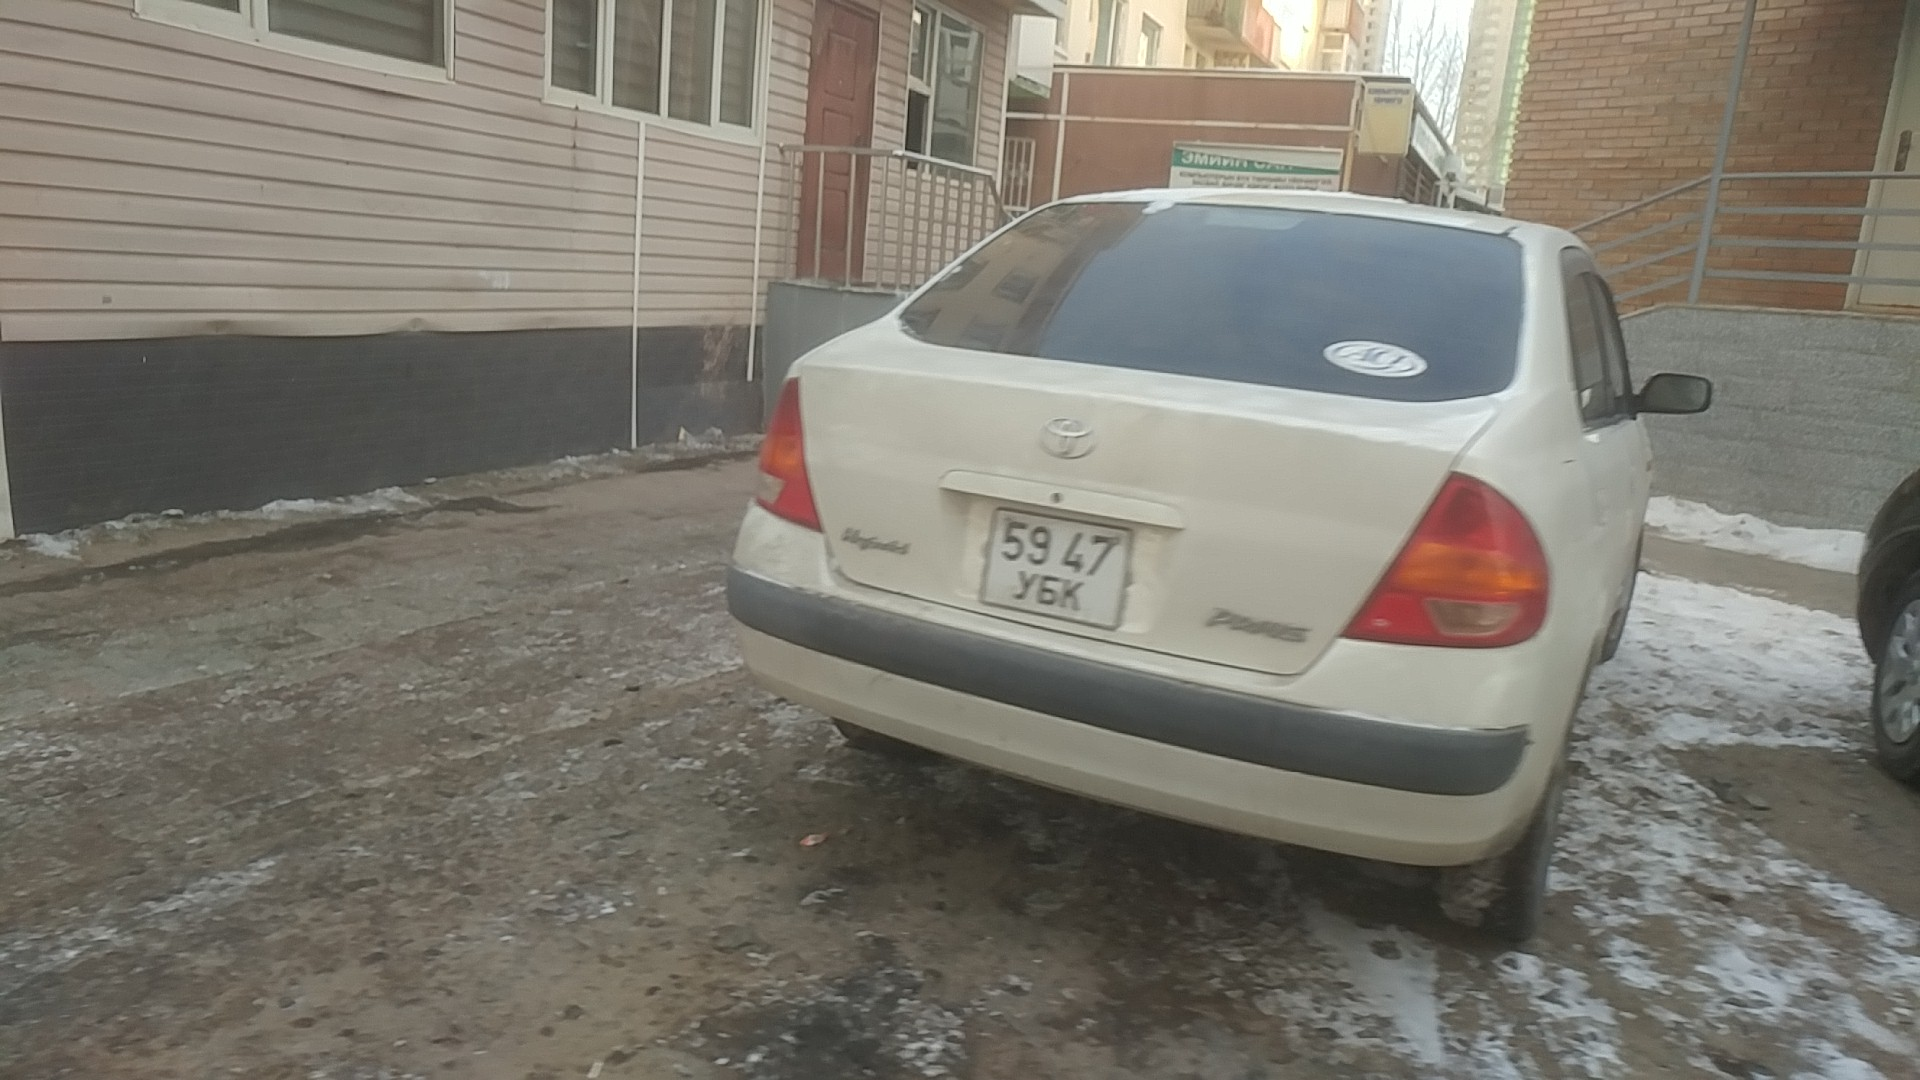4: (1060, 529, 1086, 573)
5: (1002, 518, 1026, 562)
7: (1087, 532, 1119, 579)
9: (1027, 523, 1051, 567)
b: (1036, 574, 1059, 605)
k: (1058, 578, 1082, 611)
plate: (977, 500, 1137, 637)
u: (1015, 569, 1038, 601)
